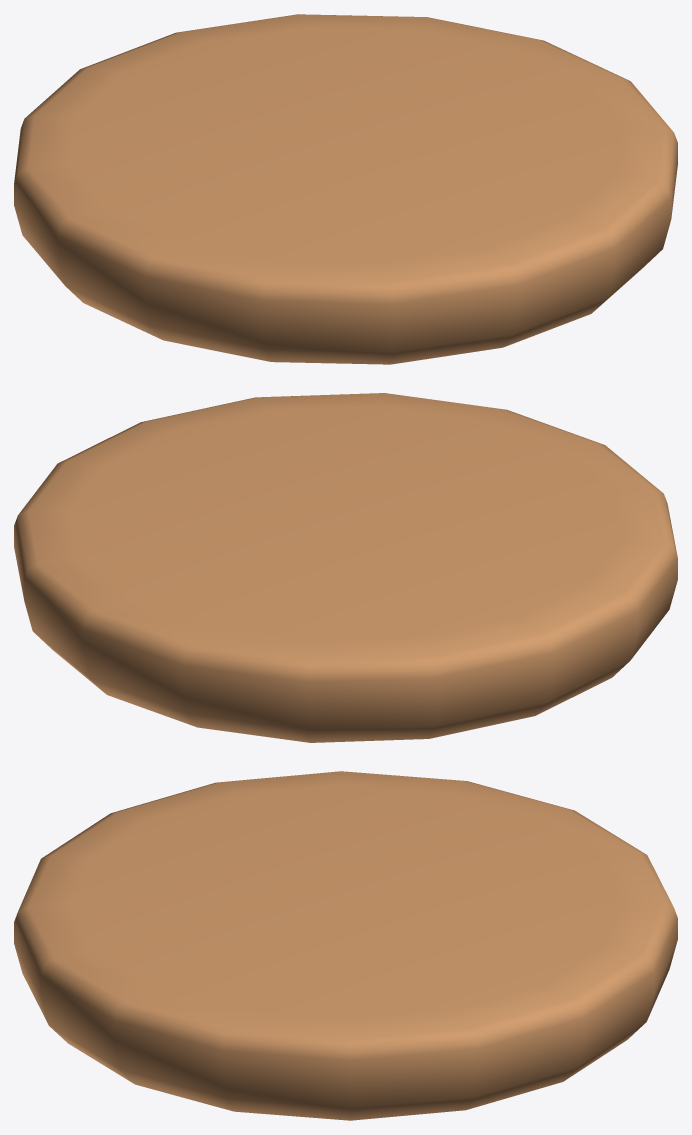
The model's file is bun_bottom.glb.
3 renders of one model, top to bottom at view 1: azimuth 30°, elevation 25°; view 2: azimuth 150°, elevation 25°; view 3: azimuth 270°, elevation 25°, orthographic.
Parts seen in each view (by area): view 1: bun_bottom; view 2: bun_bottom; view 3: bun_bottom.
Part boxes in pixels (x1,y1,x2,y2): bun_bottom: (14,14,677,364); bun_bottom: (14,393,677,742); bun_bottom: (14,771,677,1120).
Size of the model in its own units: 0.6071 by 0.1023 by 0.6071.
